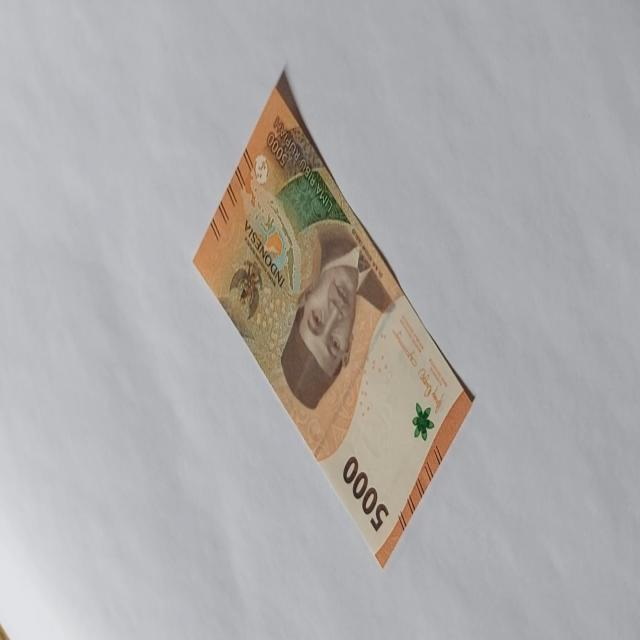lima ribu rupiah: (191, 65, 475, 568)
